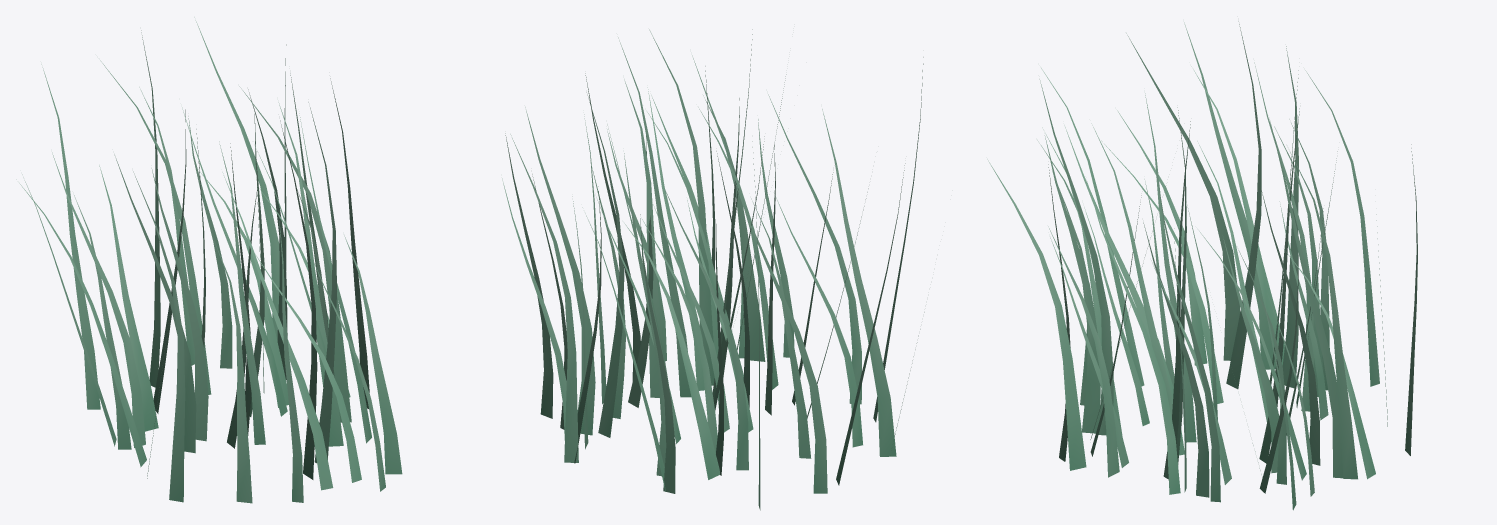
Rendered from mesh-plant-003-moonlit-ribbonweed_LOD1.glb.
3 views of the same model, side by side, from view 1: azimuth 30°, elevation 25°; view 2: azimuth 150°, elevation 25°; view 3: azimuth 270°, elevation 25° (orthographic).
Parts seen in each view (by area): view 1: geometry_0; view 2: geometry_0; view 3: geometry_0.
Boxes of the visible parts, box(x1,y1,x2,y2) form: geometry_0: box(16, 17, 402, 503); geometry_0: box(502, 29, 924, 510); geometry_0: box(987, 21, 1417, 510).
Bounding box in the file's own units: 2.39 × 1.84 × 2.38.
